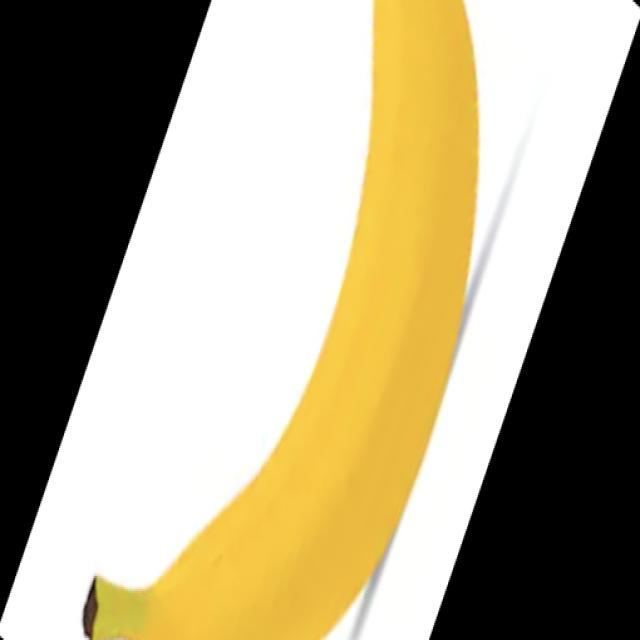Banana: (94, 7, 481, 640)
